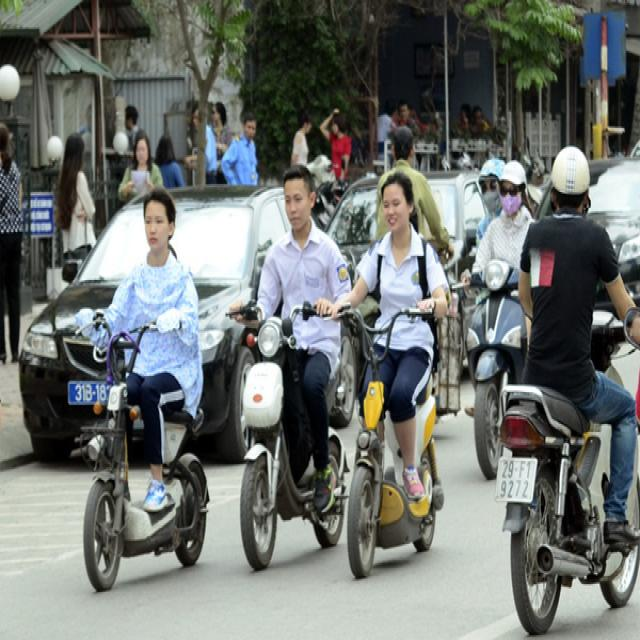Face and Hair: (137, 173, 181, 274), (374, 165, 423, 248), (279, 155, 324, 244)
